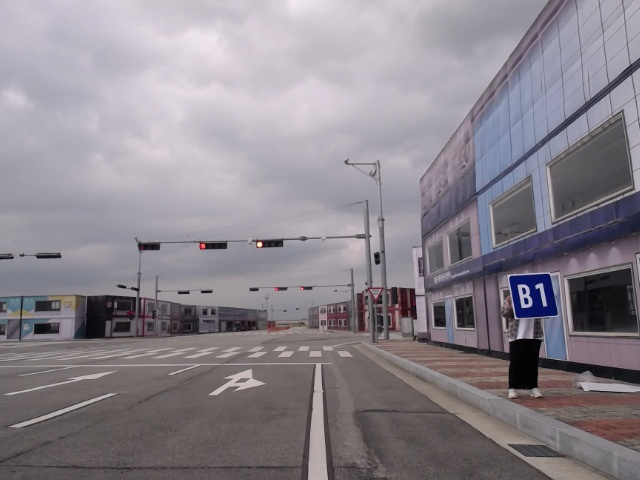delivery_b1: (508, 273, 559, 319)
red_4: (255, 240, 283, 248), (199, 242, 228, 249), (274, 287, 288, 291), (300, 287, 312, 290)
